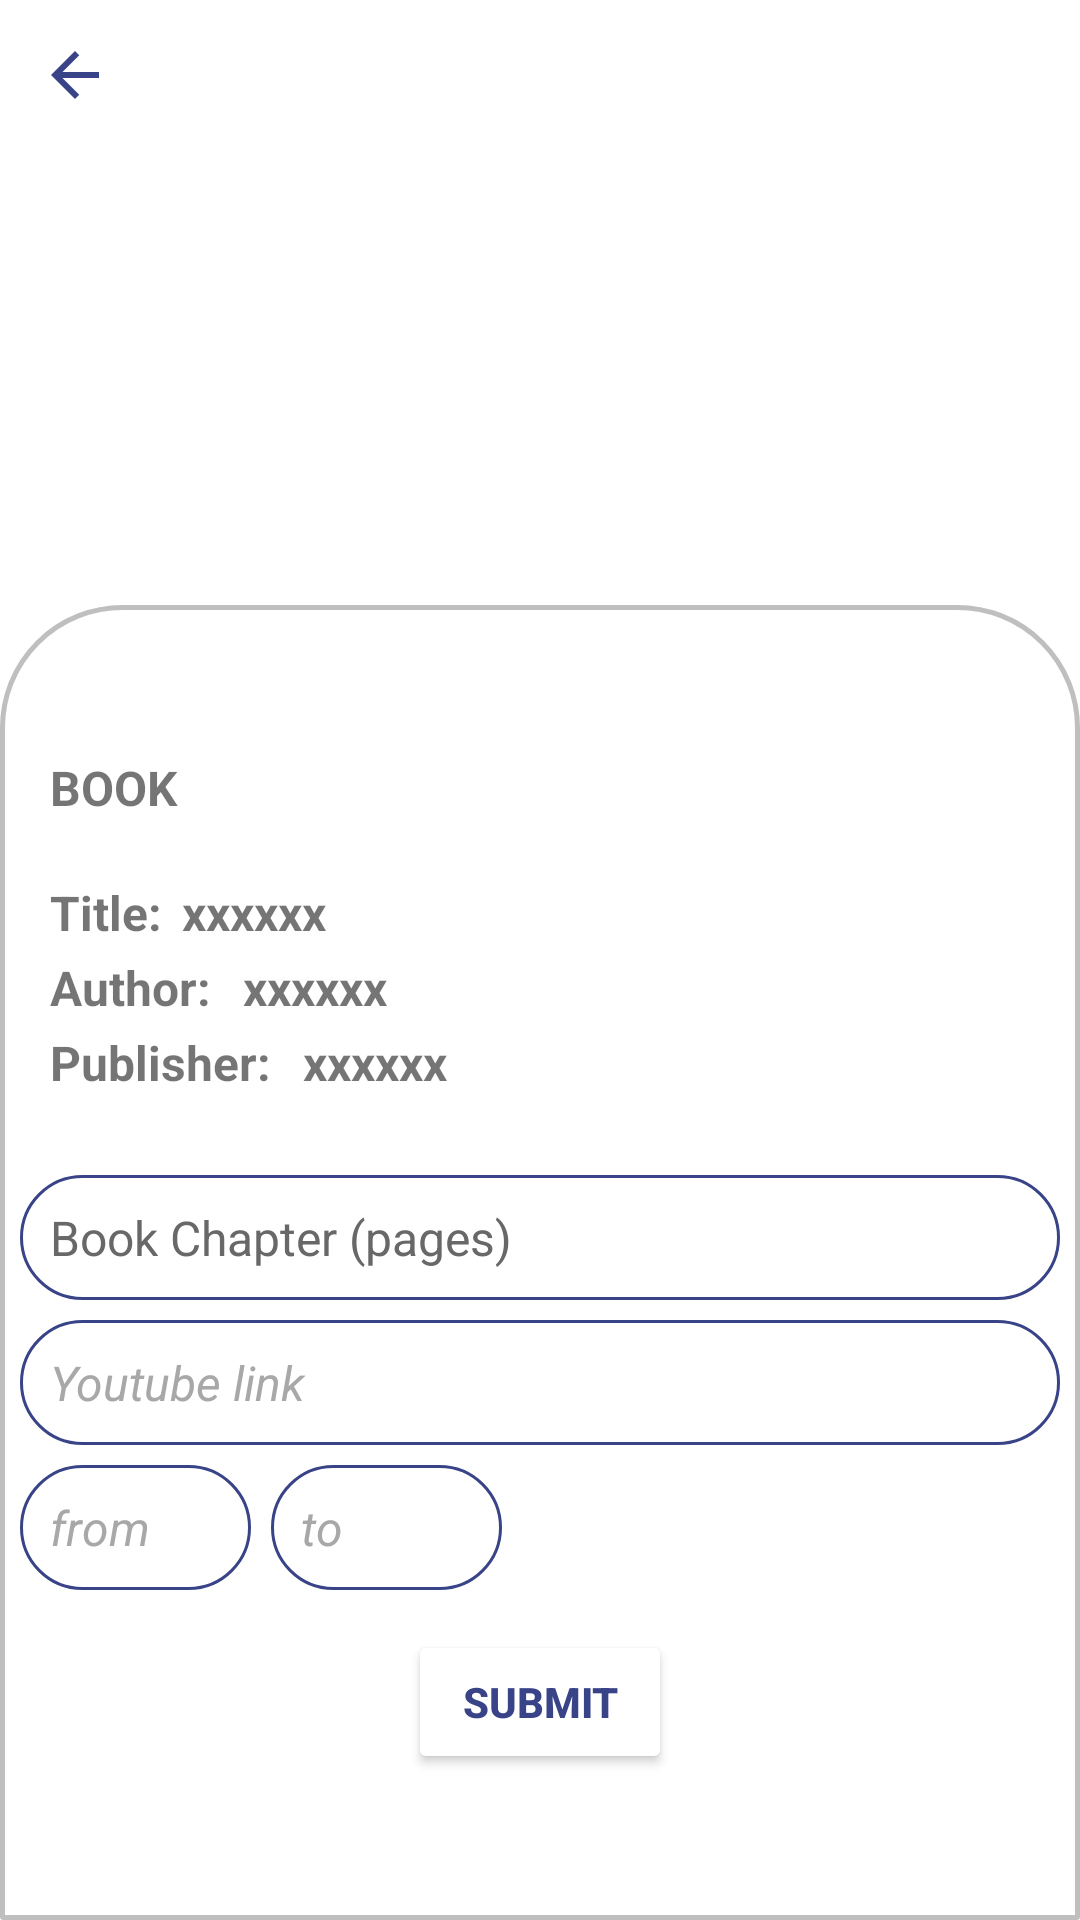

Point at icon controls on the screen. Image size 1080px x 1920px, points as (x,y).
arrow back: (75,75)
